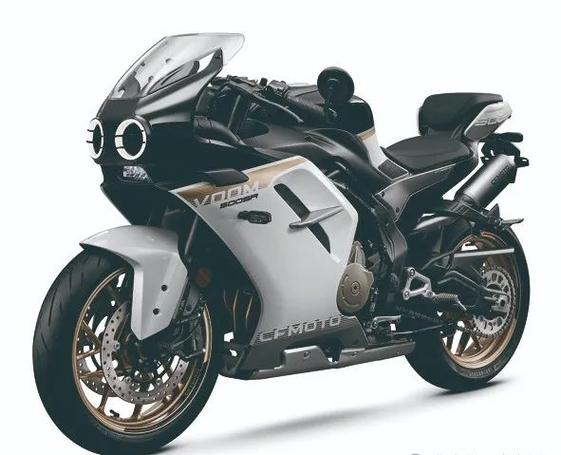摩托车: (19, 23, 548, 453)
